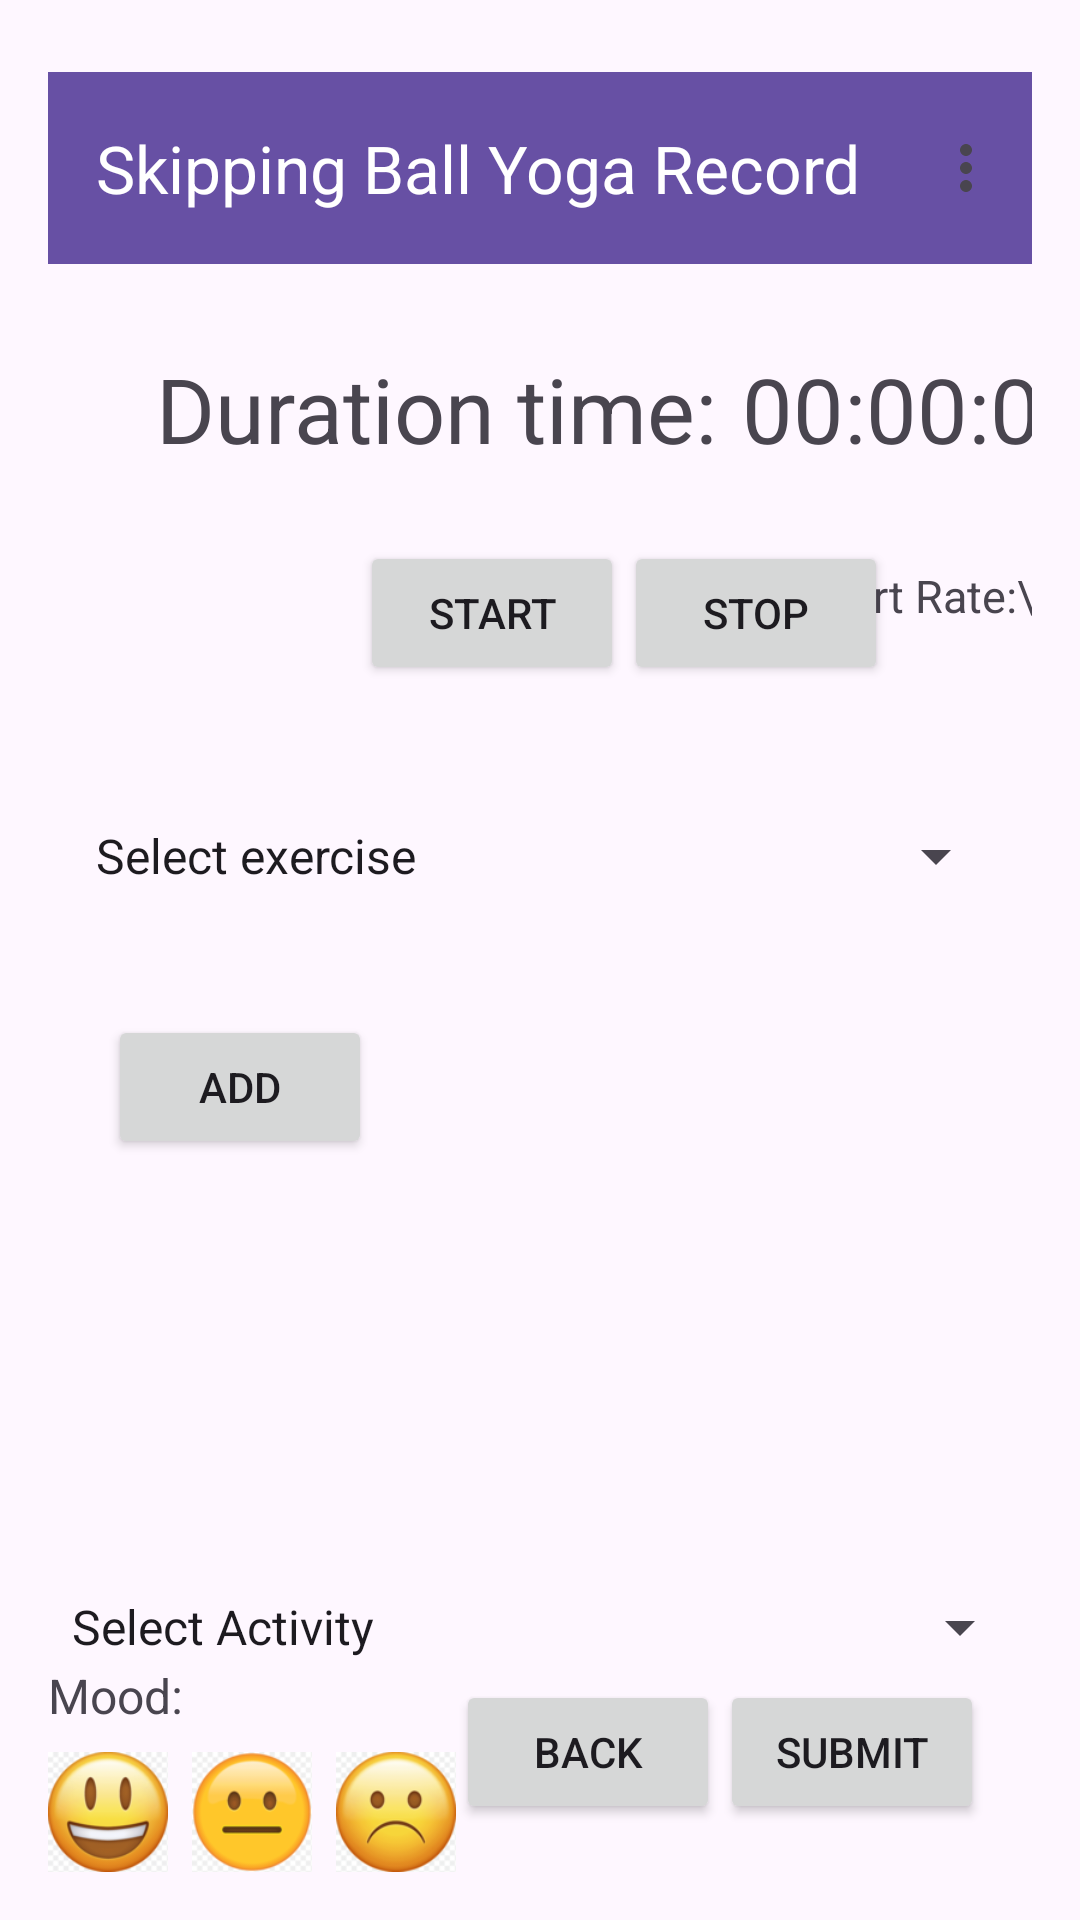

Icon click points for this 1080 × 1920 phone screenshot, format point (x, y):
bad: point (396, 1812)
happy: point (108, 1812)
neutral: point (252, 1812)
